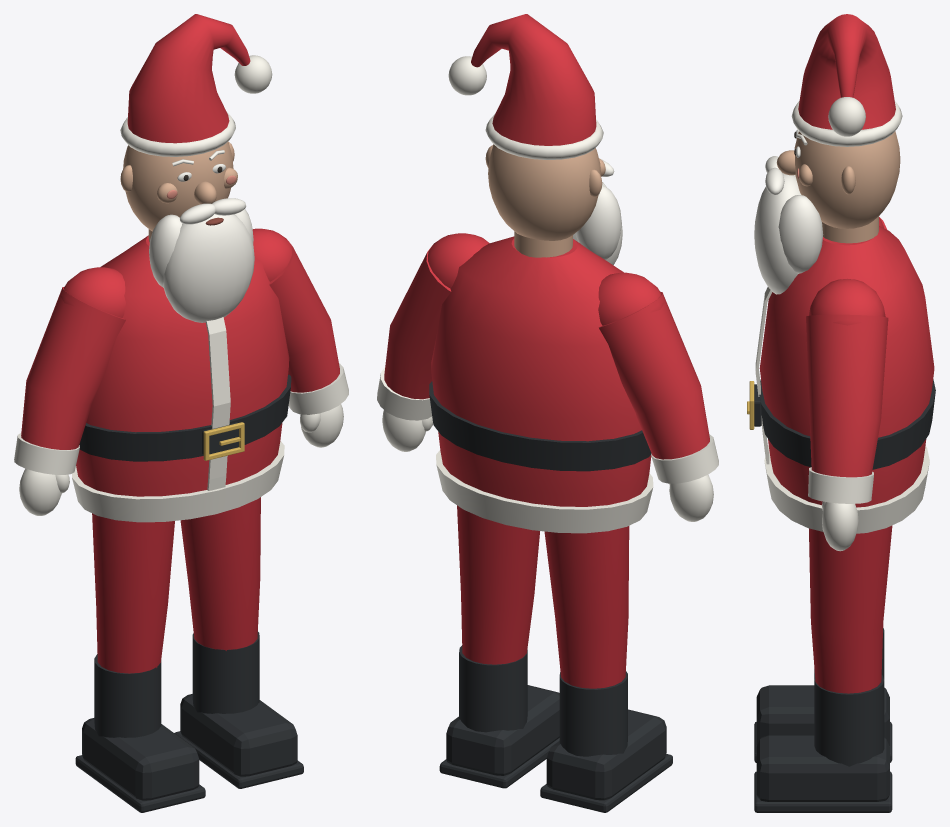
Rendered from christmas_santa_standing.glb.
The picture shows the model from 3 angles, left to right: view 1: azimuth 30°, elevation 25°; view 2: azimuth 150°, elevation 25°; view 3: azimuth 270°, elevation 25°; orthographic projection. The views are drawn at different scales.
Parts seen in each view (by area): view 1: Santa_Rounded_Belly_Coat, Santa_Trouser_Leg, Santa_Curved_Red_Hat, Santa_Red_Sleeve, Santa_Trouser_Leg.001, Santa_Full_White_Beard, Santa_Rounded_Boot_Foot.001, Santa_Rounded_Boot_Foot, Santa_Red_Sleeve.001, Santa_White_Coat_Hem, Santa_Black_Belt, Santa_Head (+14 smaller); view 2: Santa_Rounded_Belly_Coat, Santa_Trouser_Leg, Santa_Curved_Red_Hat, Santa_Red_Sleeve, Santa_Trouser_Leg.001, Santa_Head, Santa_Black_Belt, Santa_White_Coat_Hem, Santa_Rounded_Boot_Foot, Santa_Red_Sleeve.001, Santa_Rounded_Boot_Foot.001, Santa_Boot_Shaft (+13 smaller); view 3: Santa_Rounded_Belly_Coat, Santa_Red_Sleeve.001, Santa_Trouser_Leg.001, Santa_Curved_Red_Hat, Santa_Rounded_Boot_Foot.001, Santa_Head, Santa_Boot_Shaft.001, Santa_White_Coat_Hem, Santa_Black_Belt, Santa_Rounded_Boot_Foot, Santa_Full_White_Beard, Santa_Beard_Side_Lobe.001 (+10 smaller).
Part boxes in pixels (box(x1,y1,x2,y2)): Santa_Rounded_Belly_Coat: box(76, 235, 289, 496); Santa_Trouser_Leg: box(92, 513, 174, 673); Santa_Curved_Red_Hat: box(127, 14, 250, 143); Santa_Red_Sleeve: box(21, 287, 125, 449); Santa_Trouser_Leg.001: box(180, 497, 260, 650); Santa_Full_White_Beard: box(163, 214, 254, 322); Santa_Rounded_Boot_Foot.001: box(180, 694, 297, 776); Santa_Rounded_Boot_Foot: box(82, 718, 199, 800); Santa_Red_Sleeve.001: box(269, 241, 339, 392); Santa_White_Coat_Hem: box(72, 441, 284, 522); Santa_Black_Belt: box(79, 374, 291, 461); Santa_Head: box(123, 141, 233, 231); Santa_Rounded_Belly_Coat: box(431, 236, 651, 506); Santa_Trouser_Leg: box(544, 526, 629, 688); Santa_Curved_Red_Hat: box(471, 14, 596, 145); Santa_Red_Sleeve: box(599, 291, 709, 459); Santa_Trouser_Leg.001: box(457, 505, 539, 664); Santa_Head: box(488, 144, 601, 240); Santa_Black_Belt: box(429, 381, 651, 471); Santa_White_Coat_Hem: box(436, 450, 653, 533); Santa_Rounded_Boot_Foot: box(546, 709, 666, 800); Santa_Red_Sleeve.001: box(384, 246, 451, 399); Santa_Rounded_Boot_Foot.001: box(446, 685, 559, 775); Santa_Boot_Shaft: box(559, 671, 627, 756); Santa_Rounded_Belly_Coat: box(759, 226, 934, 507); Santa_Red_Sleeve.001: box(806, 314, 888, 477); Santa_Trouser_Leg.001: box(809, 525, 892, 693); Santa_Curved_Red_Hat: box(798, 14, 895, 129); Santa_Rounded_Boot_Foot.001: box(756, 735, 889, 801); Santa_Head: box(794, 131, 900, 228); Santa_Boot_Shaft.001: box(814, 675, 884, 766); Santa_White_Coat_Hem: box(764, 446, 929, 533); Santa_Black_Belt: box(759, 379, 935, 469); Santa_Rounded_Boot_Foot: box(756, 685, 889, 745); Santa_Full_White_Beard: box(754, 173, 801, 294); Santa_Beard_Side_Lobe.001: box(778, 195, 823, 273).
Bounding box in the file's own units: 0.7846 × 1.7 × 0.3781.
